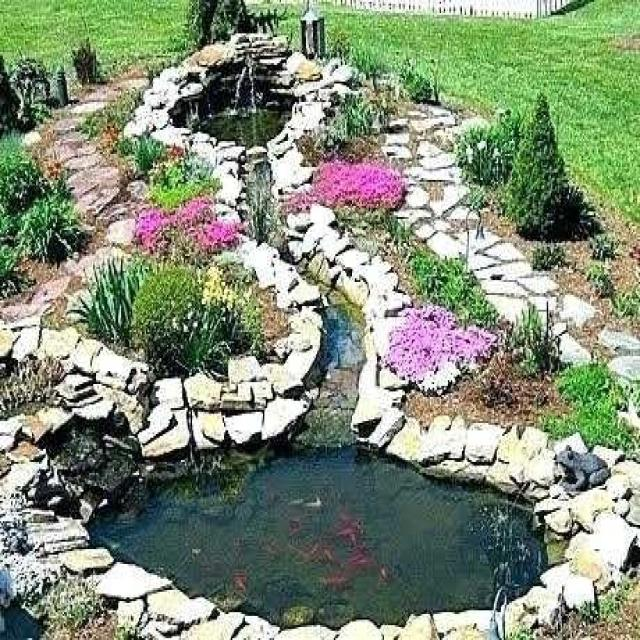Ponds: (19, 409, 640, 640), (142, 34, 327, 160)
